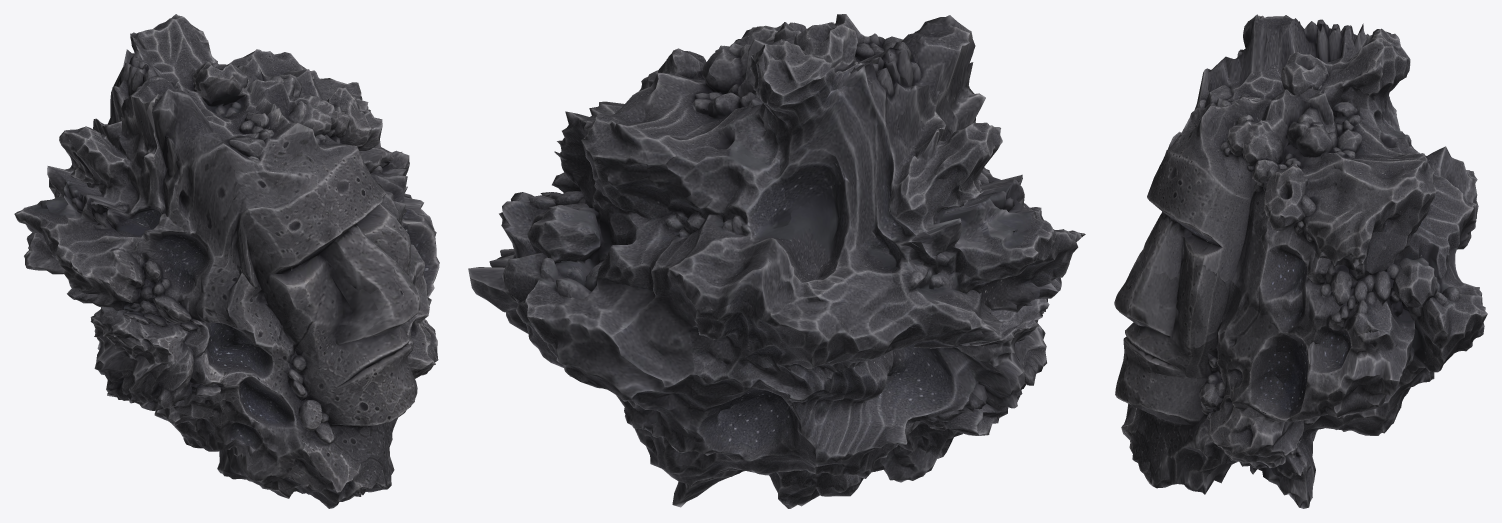
File: moyai.glb
The picture shows the model from 3 angles, left to right: view 1: azimuth 30°, elevation 25°; view 2: azimuth 150°, elevation 25°; view 3: azimuth 270°, elevation 25°; orthographic projection. The views are drawn at different scales.
Parts seen in each view (by area): view 1: Mesh_0; view 2: Mesh_0; view 3: Mesh_0.
Part boxes in pixels (x1=…): Mesh_0: x1=14, y1=14, x2=439, y2=508; Mesh_0: x1=468, y1=14, x2=1085, y2=508; Mesh_0: x1=1114, y1=14, x2=1487, y2=508.
Bounding box in the file's own units: 3.83 × 3.69 × 3.02.
Materials: 1 (1 with a texture image).
